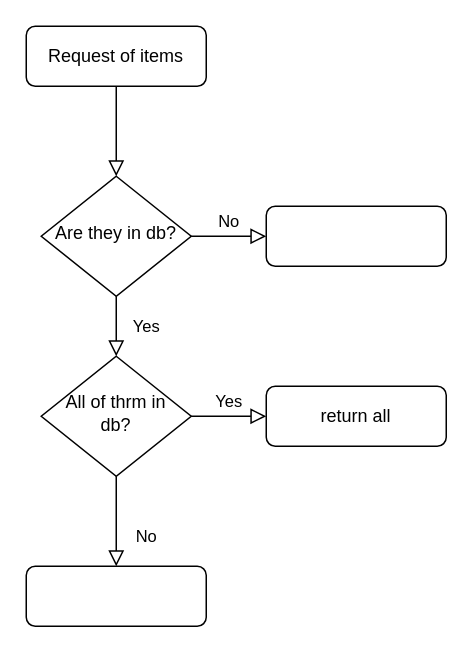
Some shapes in this 473 by 653 pixel diagram are drawn without their labels. The centre of each missing label's shape, as x and y in pixels:
"return 'not found'" belongs at point (355, 235).
"return only found" belongs at point (115, 595).
